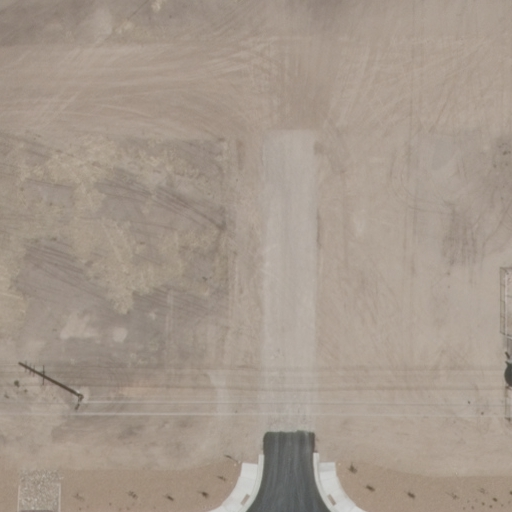DT: (67, 388, 91, 415)
